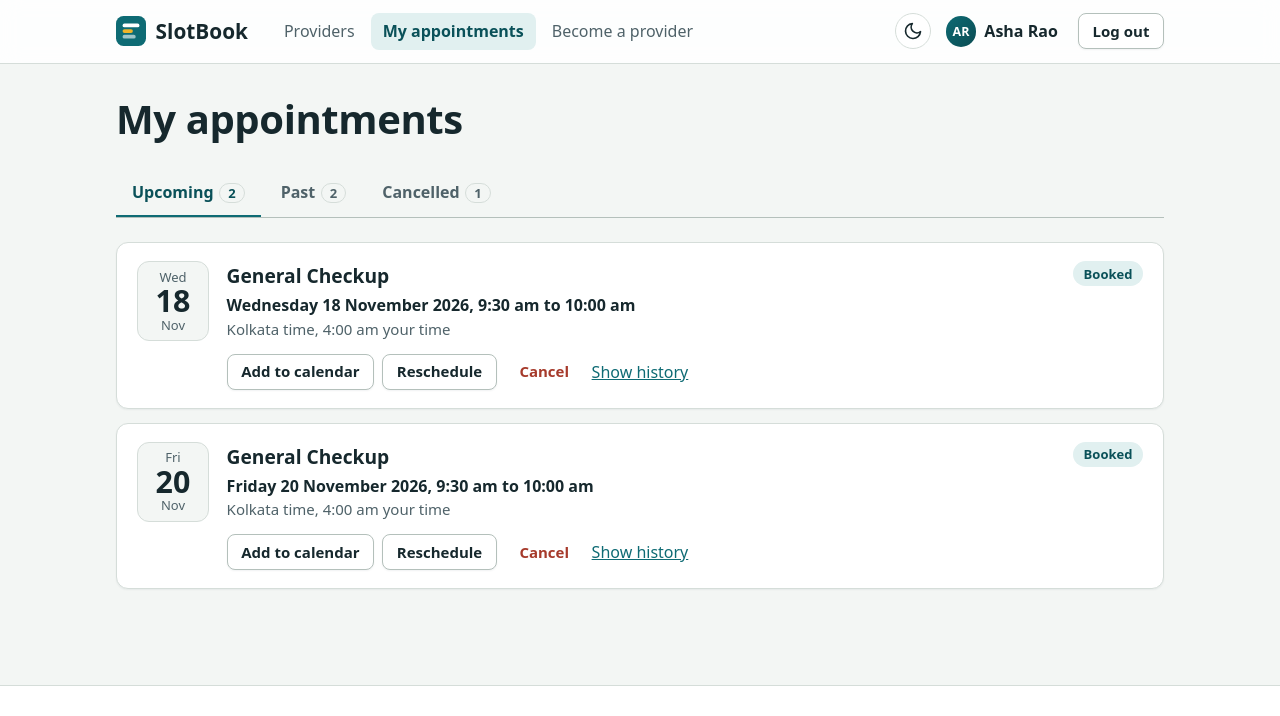
Test: my appointments › explains a failed cancel and refreshes the list (409)
This screenshot has width=1280, height=716.
Click the button "Cancel" below "Wednesday 18 November 2026" at (544, 372), box [505,354,584,390]
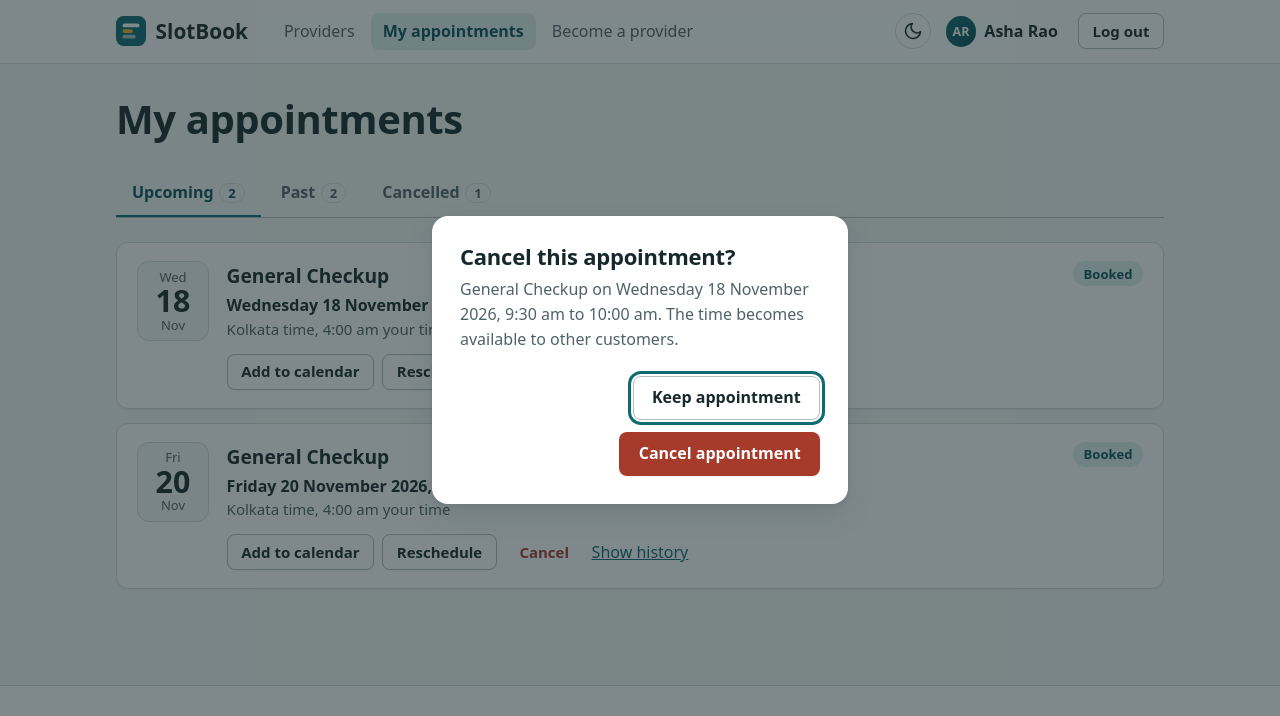
Click the button "Cancel appointment" at (720, 454), box [619,432,820,476]
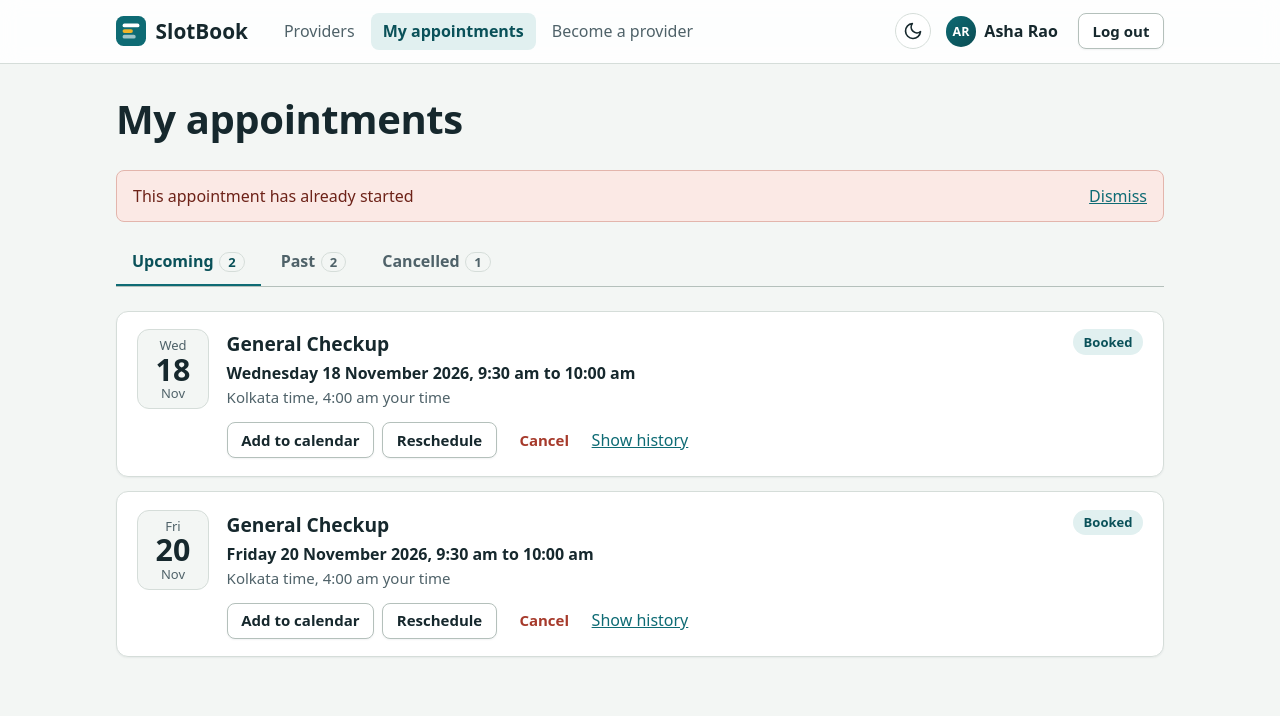
Check: the message shows "This appointment has already started", box [133,185,414,207]
